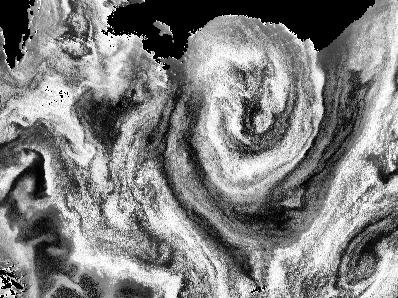AE: (190, 15, 321, 194)
